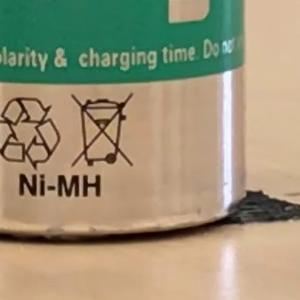NI-MH: (9, 164, 111, 207)
